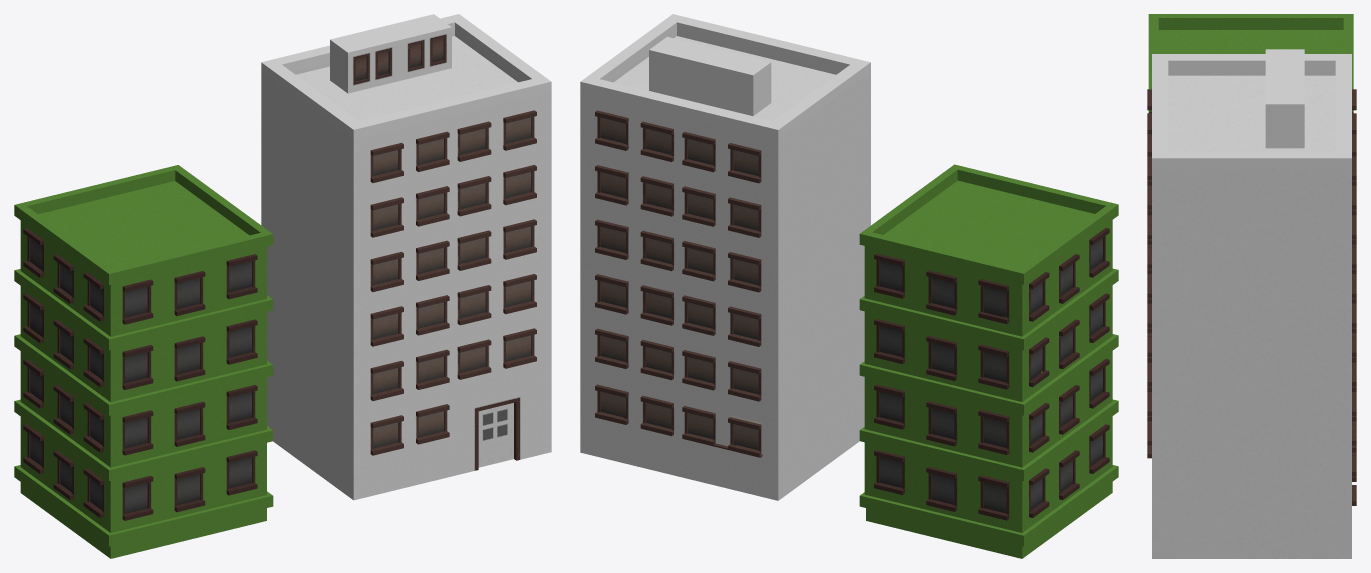
The model's file is City_06.fbx.
The picture shows the model from 3 angles, left to right: view 1: azimuth 30°, elevation 25°; view 2: azimuth 150°, elevation 25°; view 3: azimuth 270°, elevation 25°; orthographic projection. The views are drawn at different scales.
Parts seen in each view (by area): view 1: Building_13, Building_12; view 2: Building_13, Building_12; view 3: Building_13, Building_12.
Part boxes in pixels (x1,y1,x2,y2): Building_13: [261, 14, 551, 500]; Building_12: [14, 165, 273, 558]; Building_13: [580, 14, 870, 500]; Building_12: [859, 164, 1118, 558]; Building_13: [1147, 49, 1356, 558]; Building_12: [1148, 14, 1353, 113].
Size of the model in its own units: 341 by 292 by 129.
